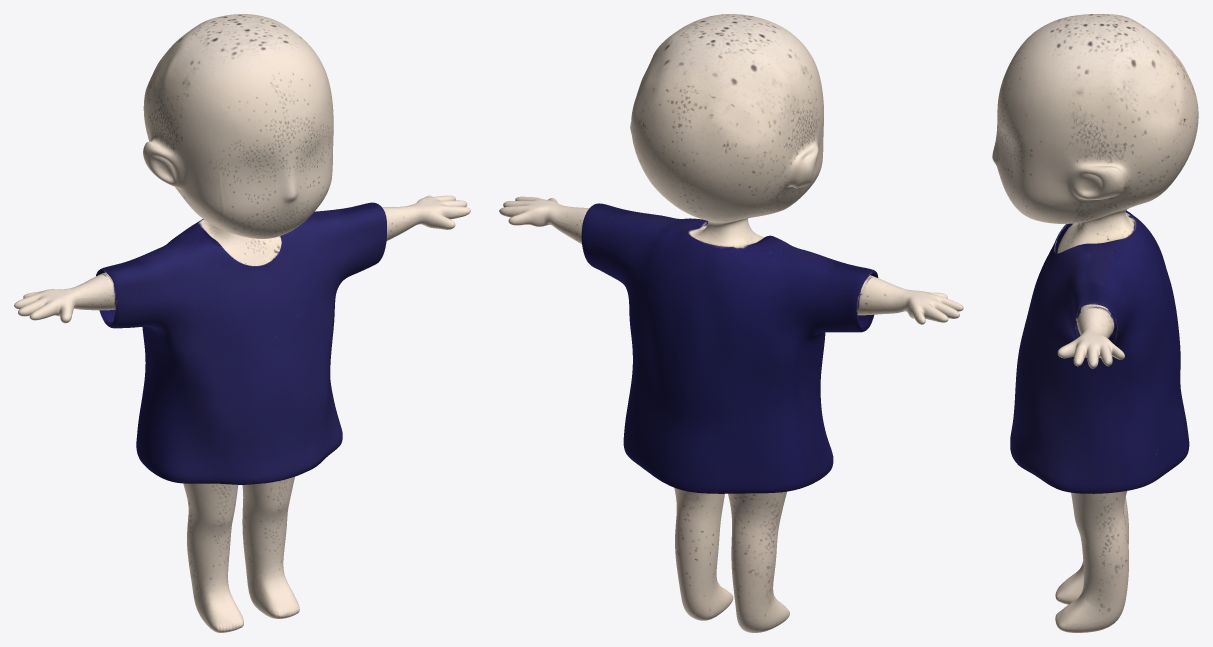
File: baked_nshirt_navy.glb
3 renders of one model, left to right at view 1: azimuth 30°, elevation 25°; view 2: azimuth 150°, elevation 25°; view 3: azimuth 270°, elevation 25°, orthographic.
Size of the model in its own units: 1.51 by 1.9 by 0.5995.
1 material, 1 textured.
